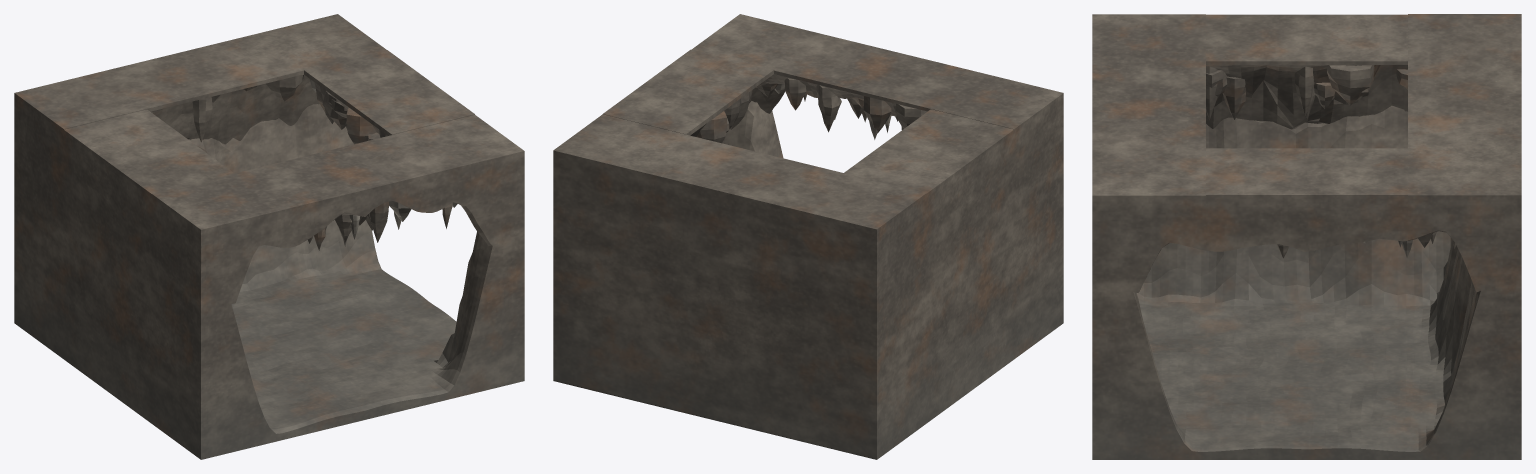
The model's file is dungeon_cave_corner.glb.
3 views of the same model, side by side, from view 1: azimuth 30°, elevation 25°; view 2: azimuth 150°, elevation 25°; view 3: azimuth 270°, elevation 25° (orthographic). The views are drawn at different scales.
Parts seen in each view (by area): view 1: dungeon_cave_corner; view 2: dungeon_cave_corner; view 3: dungeon_cave_corner.
Part boxes in pixels (x1=…): dungeon_cave_corner: x1=14, y1=14, x2=524, y2=459; dungeon_cave_corner: x1=553, y1=14, x2=1063, y2=459; dungeon_cave_corner: x1=1092, y1=14, x2=1521, y2=459.
Size of the model in its own units: 5.05 by 3.45 by 5.05.
Materials: 1 (1 with a texture image).
